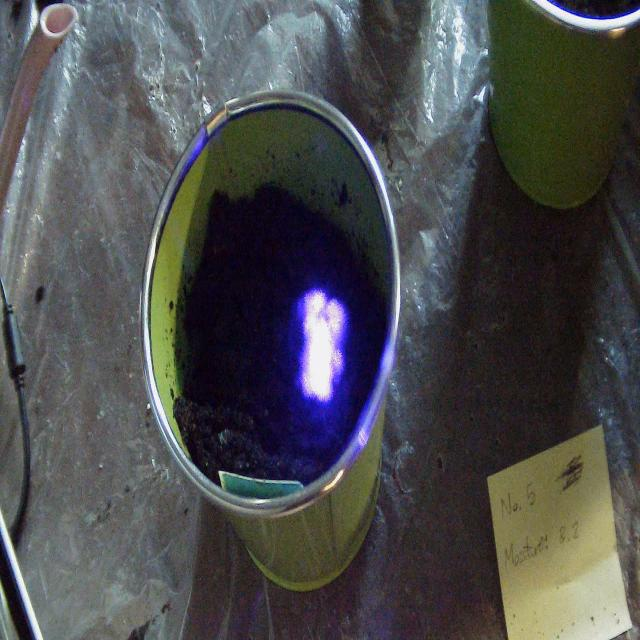soil-moisture-8.2: (293, 283, 350, 417)
